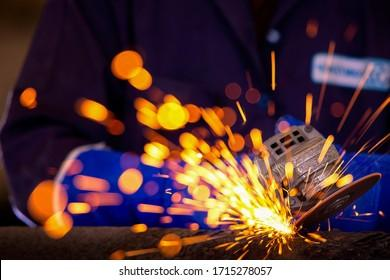gloves: (58, 144, 242, 236)
